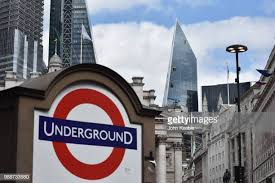London Underground: (43, 88, 136, 177)
